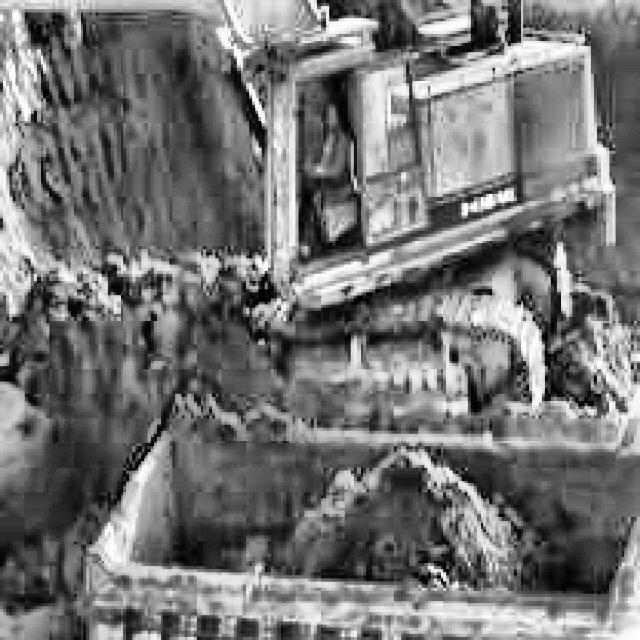dump_truck: (83, 304, 640, 640)
excavator: (0, 0, 606, 505)
